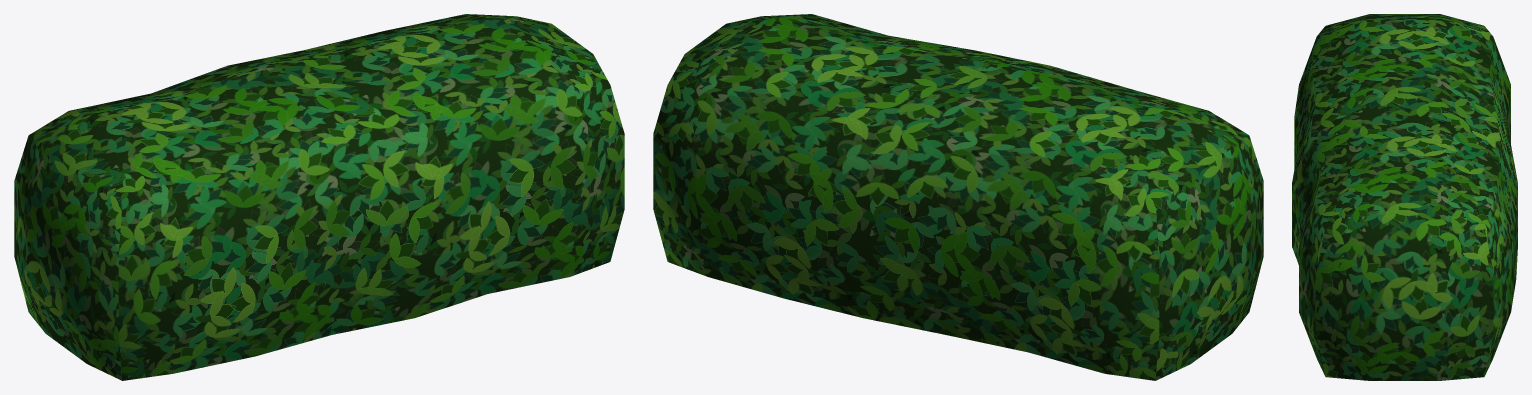
Rendered from Hedge_.fbx.
3 views of the same model, side by side, from view 1: azimuth 30°, elevation 25°; view 2: azimuth 150°, elevation 25°; view 3: azimuth 270°, elevation 25° (orthographic). The views are drawn at different scales.
Visible parts, largest first — view 1: hedge; view 2: hedge; view 3: hedge.
Part boxes in pixels (bbox=[...]): hedge: bbox=[14, 14, 624, 380]; hedge: bbox=[653, 14, 1263, 380]; hedge: bbox=[1292, 14, 1517, 380].
Bounding box in the file's own units: 5 × 1.87 × 2.13.
Materials: 1 (1 with a texture image).
